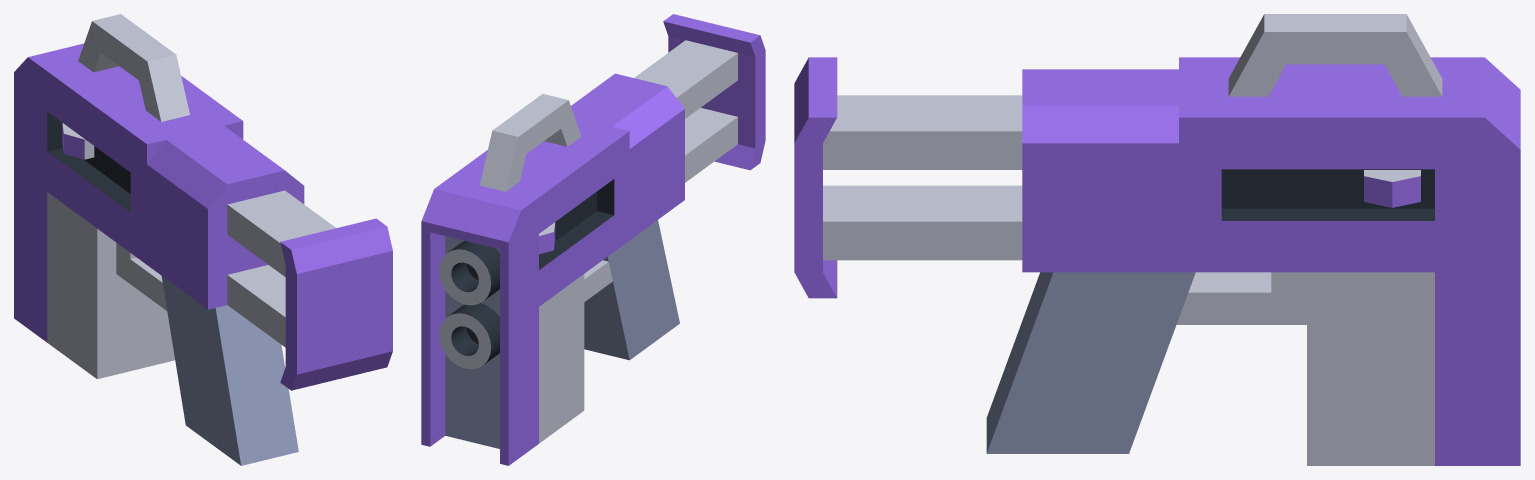
Rendered from blasterI.obj.
3 renders of one model, left to right at view 1: azimuth 30°, elevation 25°; view 2: azimuth 150°, elevation 25°; view 3: azimuth 270°, elevation 25°, orthographic. The views are drawn at different scales.
Visible parts, largest first — view 1: blasterI; view 2: blasterI; view 3: blasterI.
Part boxes in pixels (x1,y1,x2,y2): blasterI: (14, 14, 392, 465); blasterI: (421, 14, 765, 465); blasterI: (794, 14, 1520, 465).
Bounding box in the file's own units: 0.1 × 0.32 × 0.51.
